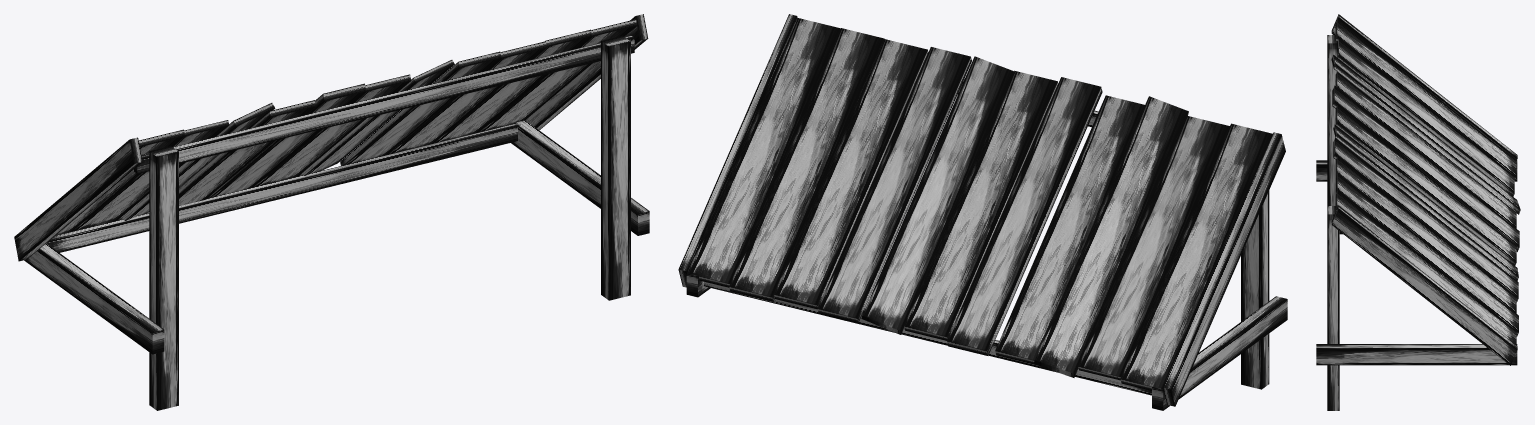
The model's file is Awning_wood.fbx.
The picture shows the model from 3 angles, left to right: view 1: azimuth 30°, elevation 25°; view 2: azimuth 150°, elevation 25°; view 3: azimuth 270°, elevation 25°; orthographic projection. The views are drawn at different scales.
Visible parts, largest first — view 1: AwningWood; view 2: AwningWood; view 3: AwningWood.
Boxes of the visible parts, <box> form: AwningWood: <box>14,14,649,410</box>; AwningWood: <box>678,14,1287,410</box>; AwningWood: <box>1316,14,1520,410</box>.
Size of the model in its own units: 7.01 by 3.58 by 3.11.
